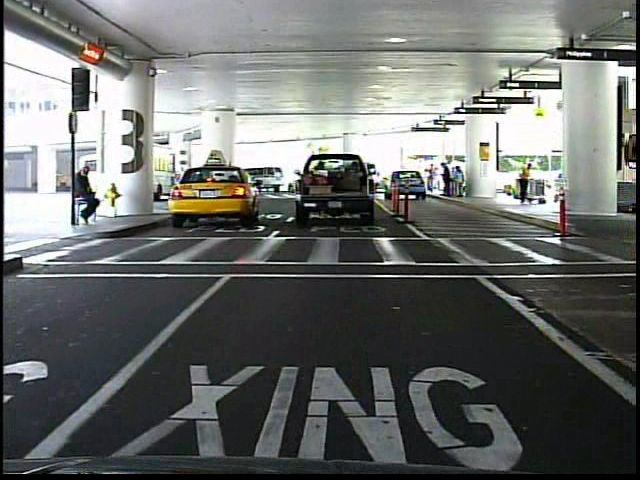person: (75, 160, 103, 230), (513, 158, 534, 209), (425, 162, 438, 196)
